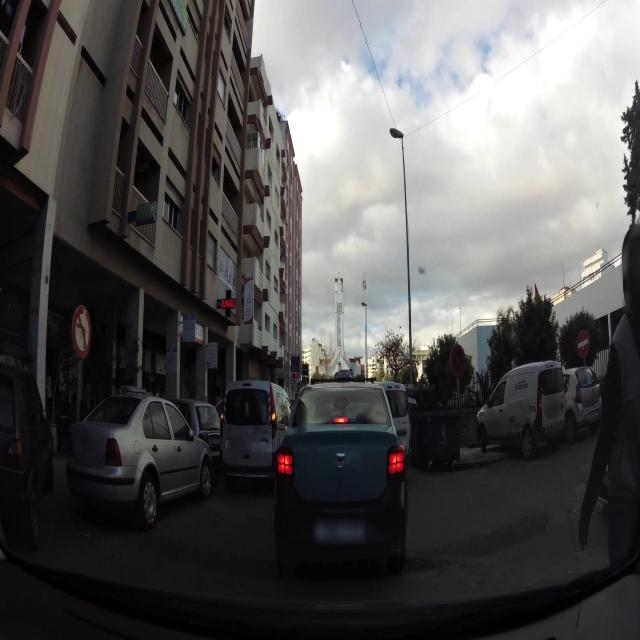forb_stopping: (450, 341, 467, 379)
